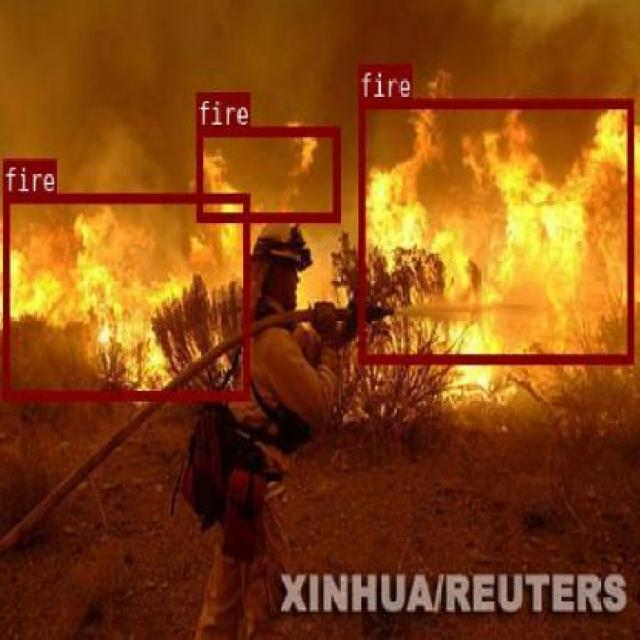Fire: (358, 99, 632, 364), (1, 192, 248, 398), (195, 126, 338, 220)
